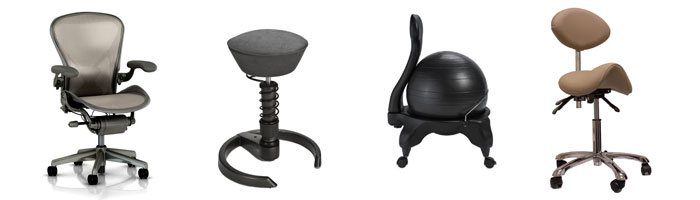chairs: (43, 12, 159, 191), (549, 7, 657, 196), (215, 29, 329, 188)
